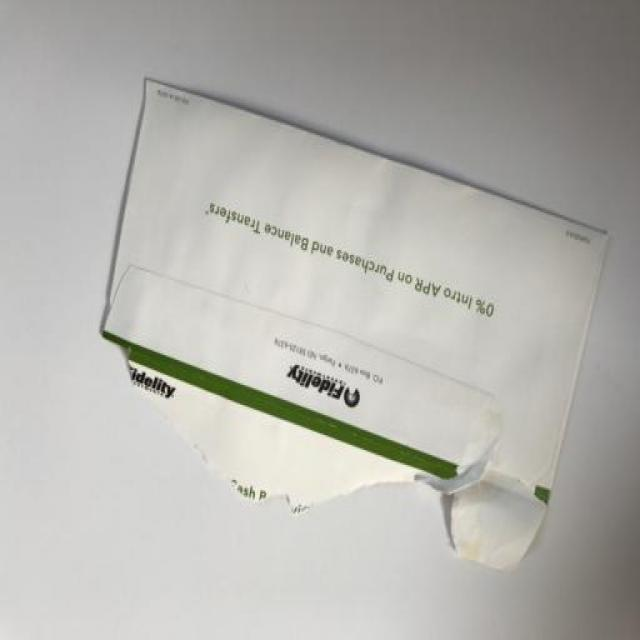paper: (121, 70, 616, 605)
